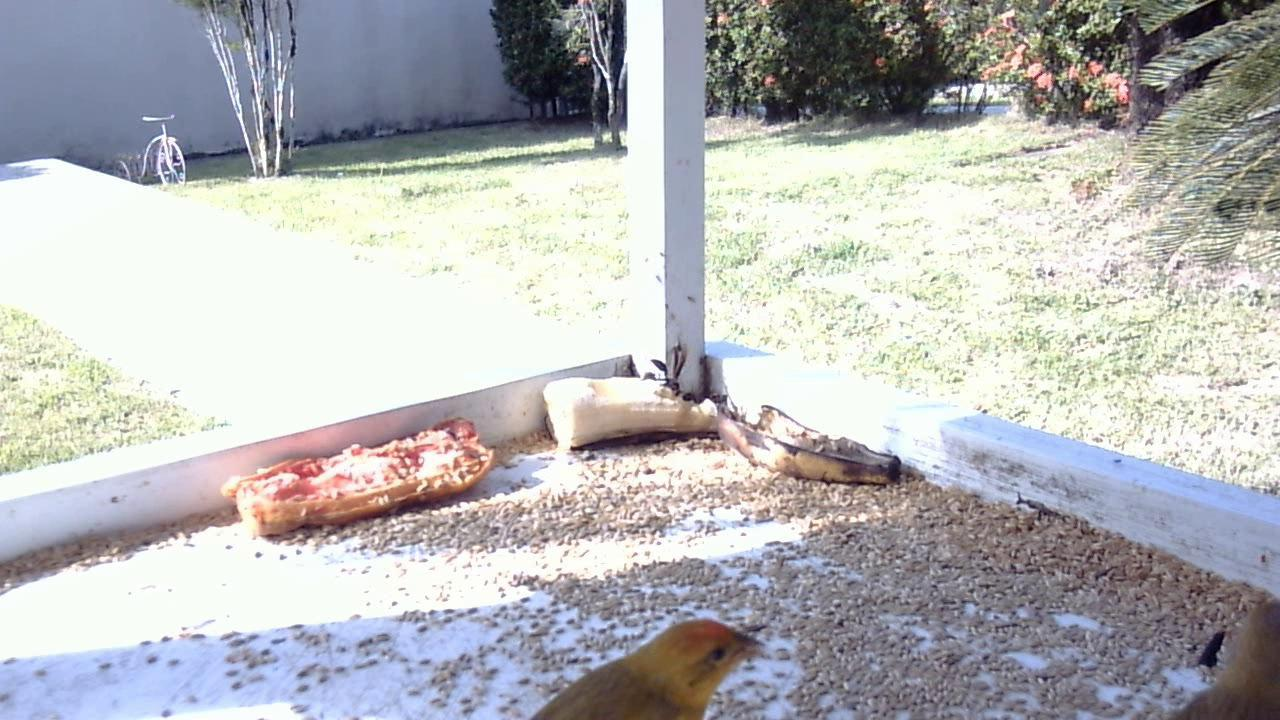canario_do_amazonas: (518, 612, 769, 718)
